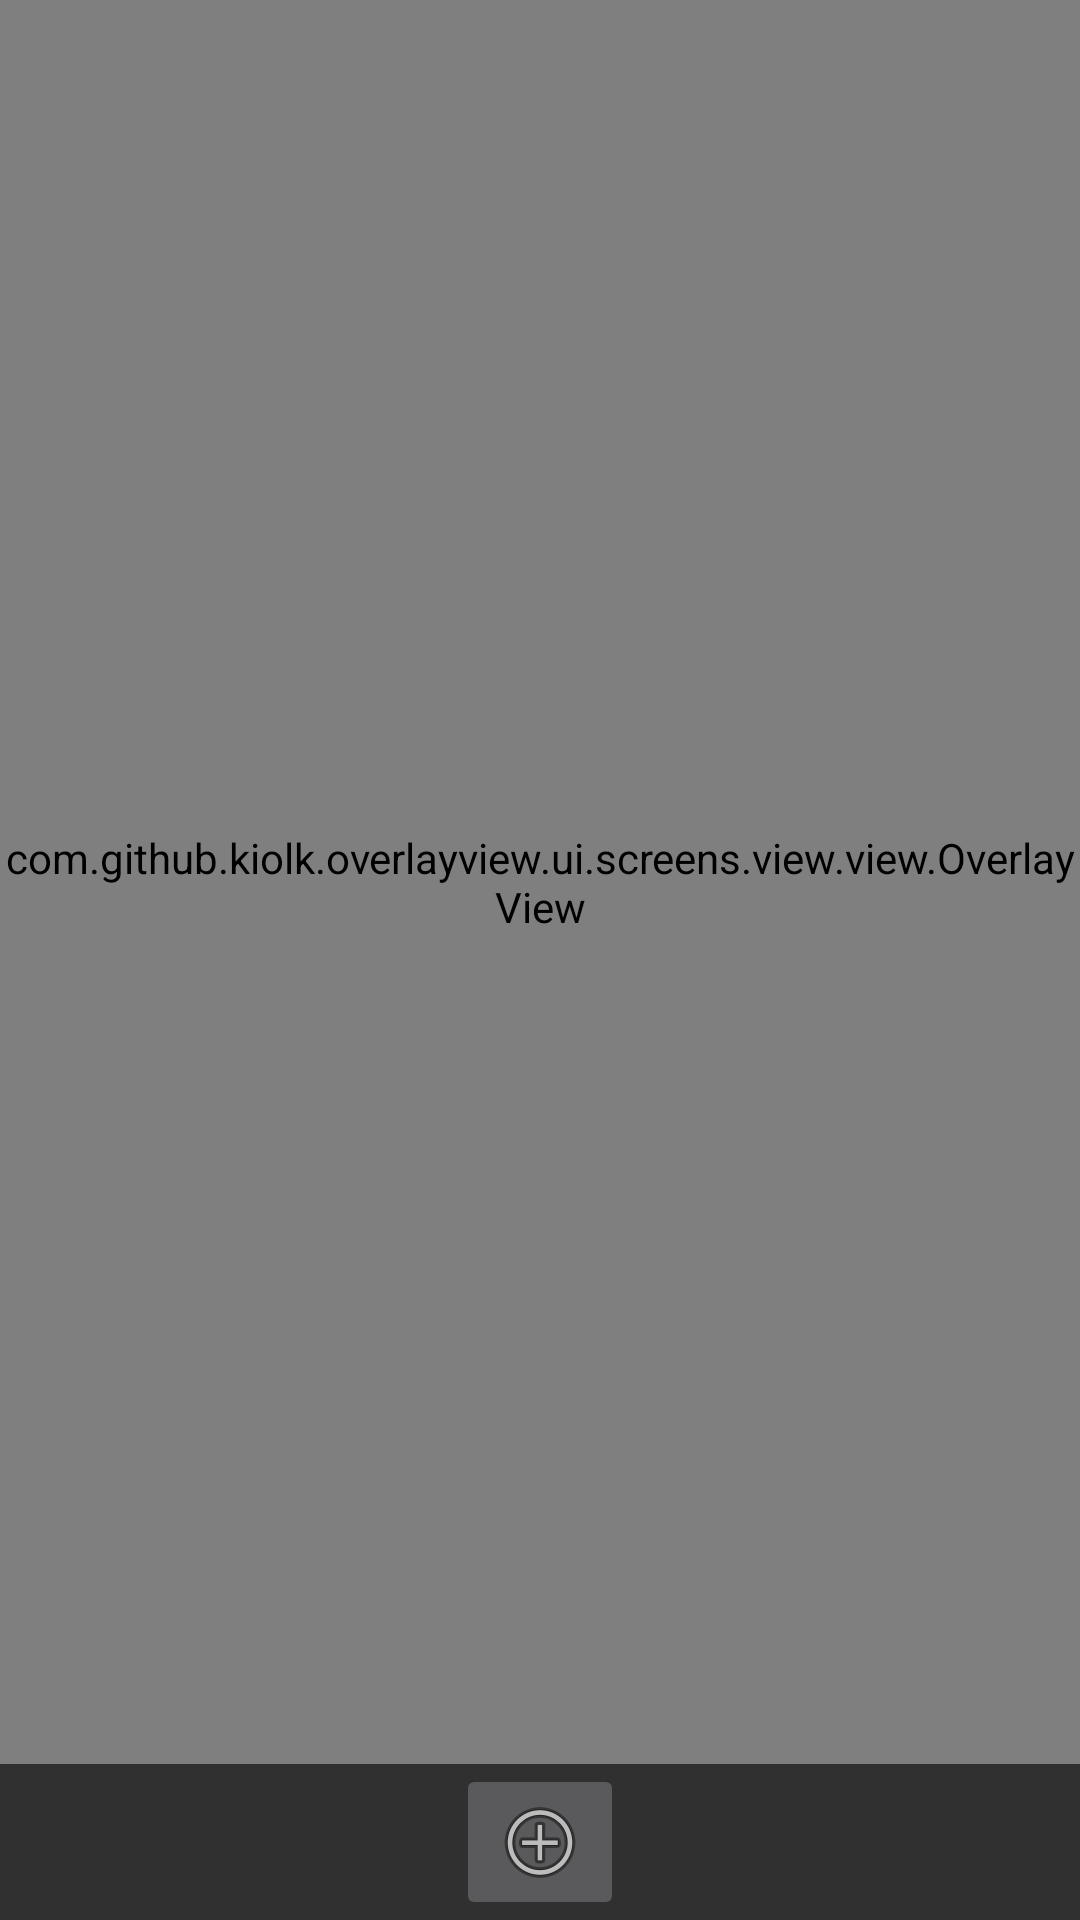

Screen size 1080px x 1920px. Icon name, then its center in pixels as (x,y):
Add new image: (540,1842)
